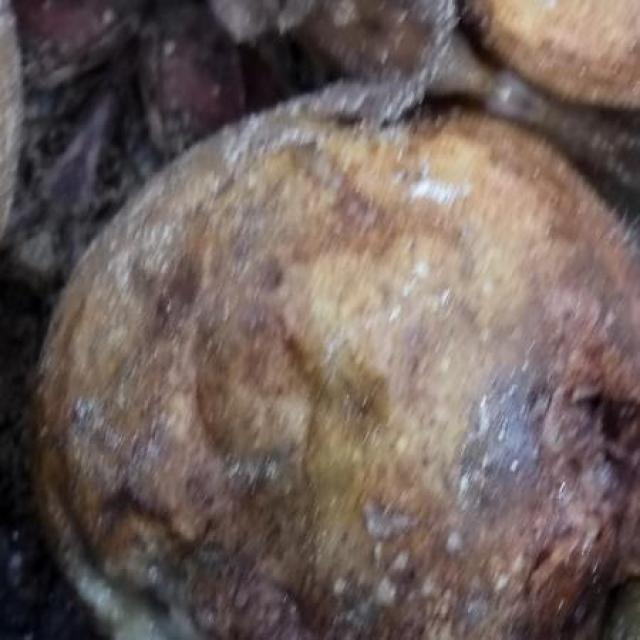Phytopthora: (38, 115, 640, 640)
